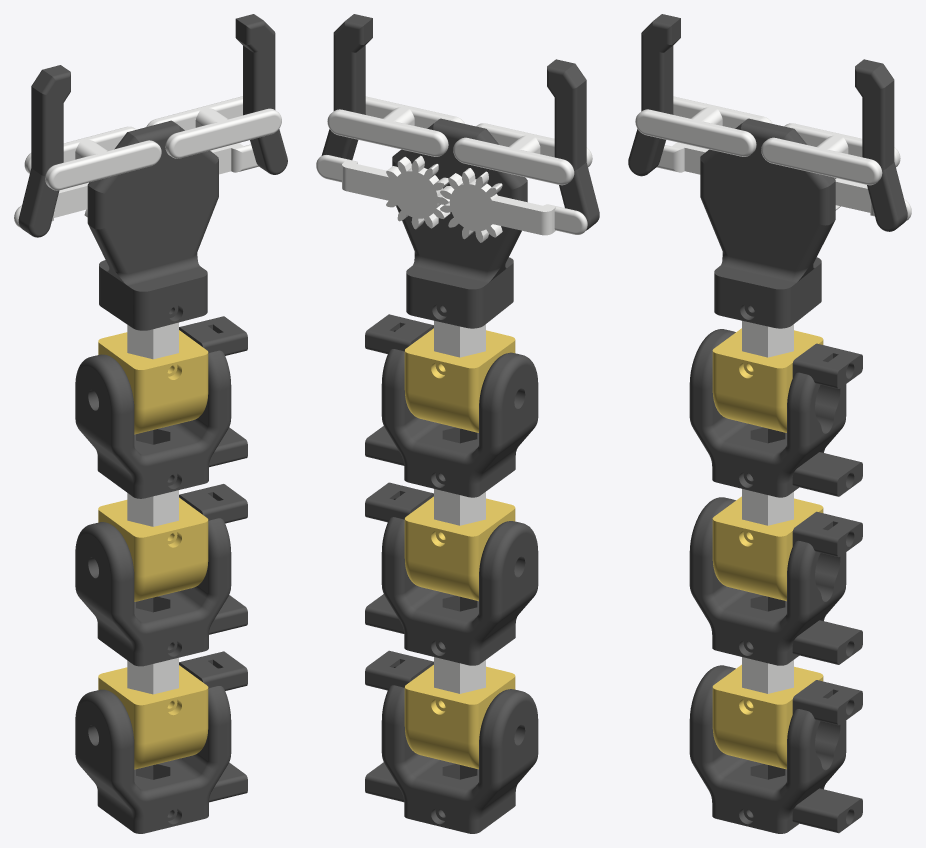
Rendered from Modbot.glb.
The picture shows the model from 3 angles, left to right: view 1: azimuth 30°, elevation 25°; view 2: azimuth 150°, elevation 25°; view 3: azimuth 330°, elevation 25°; orthographic projection.
Parts seen in each view (by area): view 1: Palm.001, J3, J1, J2, L2-H, L3-H, L1-H, Finger2, Hlink1, Finger1, Hlink2, L3-M (+4 smaller); view 2: J3, J2, J1, Palm.001, L2-H, L1-H, L3-H, GearLink2, GearLink1, Finger2, Hlink1, Hlink2 (+4 smaller); view 3: Palm.001, J3, J2, J1, L2-H, L3-H, L1-H, Finger1, Hlink2, Hlink1, Finger2, L3-M (+4 smaller).
Boxes of the visible parts, <box> form: Palm.001: <box>87,120,218,330</box>; J3: <box>75,316,247,498</box>; J1: <box>75,651,247,833</box>; J2: <box>75,484,247,666</box>; L2-H: <box>98,497,208,601</box>; L3-H: <box>98,330,208,434</box>; L1-H: <box>98,665,208,769</box>; Finger2: <box>18,65,70,237</box>; Hlink1: <box>146,96,281,158</box>; Finger1: <box>235,14,287,174</box>; Hlink2: <box>24,126,161,190</box>; L3-M: <box>127,322,178,359</box>; J3: <box>365,314,538,497</box>; J2: <box>365,482,538,665</box>; J1: <box>365,650,538,833</box>; Palm.001: <box>392,118,527,328</box>; L2-H: <box>404,496,515,601</box>; L1-H: <box>404,665,515,769</box>; L3-H: <box>404,328,515,432</box>; GearLink2: <box>440,168,587,242</box>; GearLink1: <box>316,155,450,229</box>; Finger2: <box>547,59,599,230</box>; Hlink1: <box>327,96,464,156</box>; Hlink2: <box>453,123,592,185</box>; Palm.001: <box>700,118,835,328</box>; J3: <box>689,329,862,497</box>; J2: <box>689,497,862,665</box>; J1: <box>689,665,862,833</box>; L2-H: <box>712,496,823,601</box>; L3-H: <box>712,328,823,432</box>; L1-H: <box>712,664,823,769</box>; Finger1: <box>855,59,907,231</box>; Hlink2: <box>635,96,772,156</box>; Hlink1: <box>761,123,900,185</box>; Finger2: <box>628,14,680,176</box>; L3-M: <box>742,320,793,357</box>.
Size of the model in its own units: 0.0712 by 0.1964 by 0.0205.
